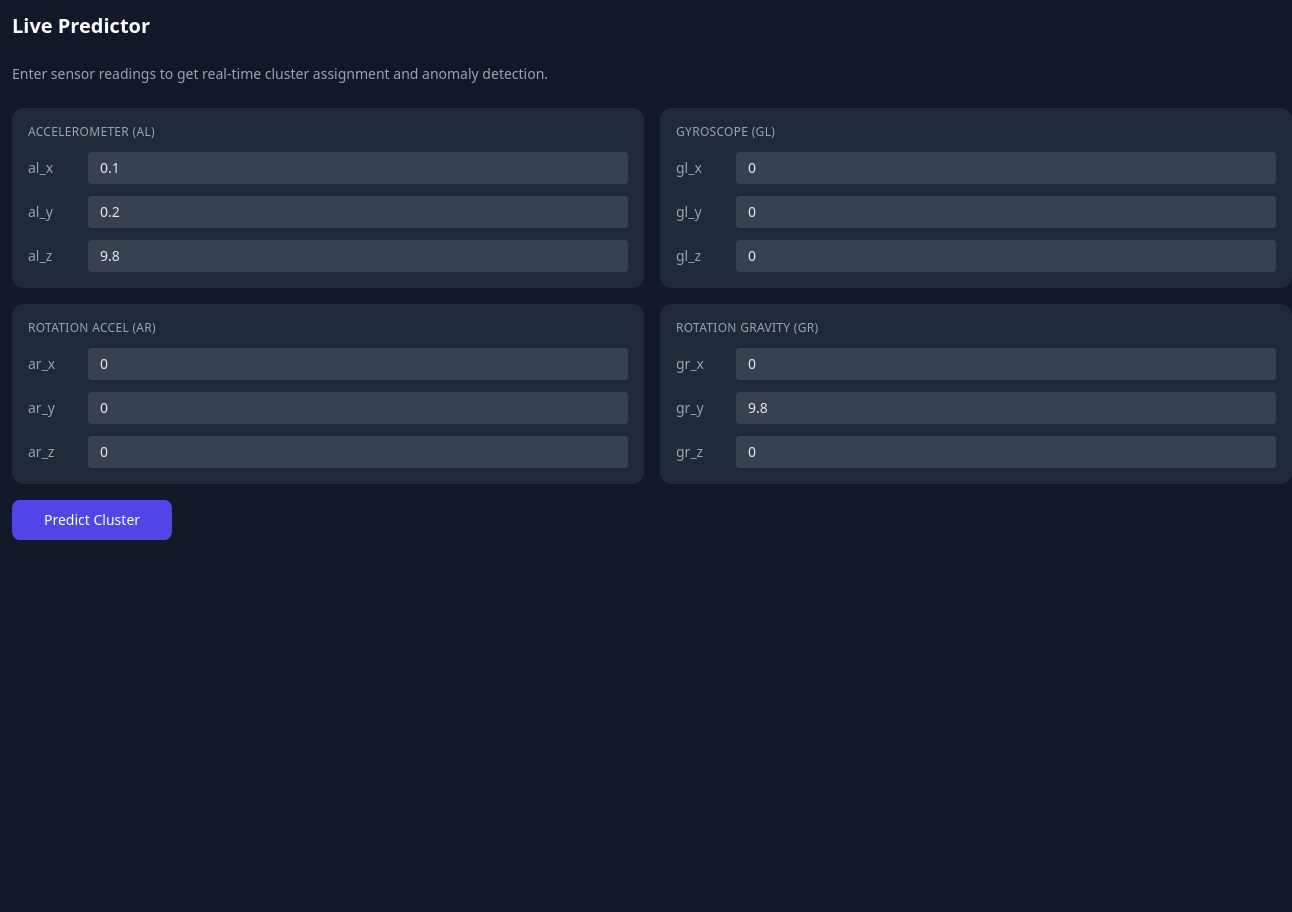
Test case: submits and shows result
The image size is (1292, 912).
What coordinates should you click on to do the following:
click the button "Predict Cluster"
I would click on:
 (92, 520)
Its box is [12, 500, 172, 540].
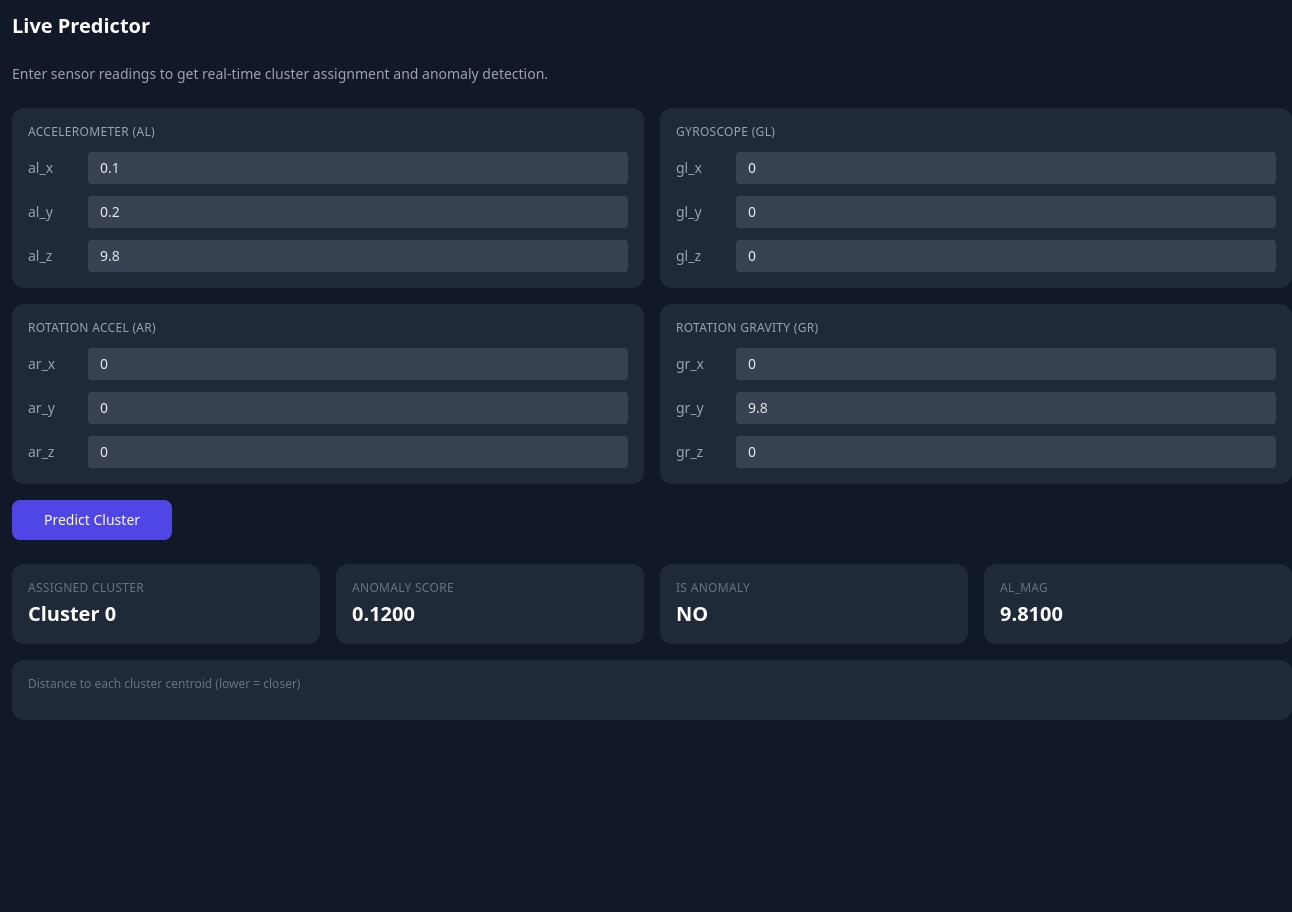
Expected: the text "Cluster 0" is shown, [28, 600, 116, 627]
Expected: the text "0.1200" is shown, [352, 600, 415, 627]
Expected: the text "NO" is shown, [676, 600, 708, 627]
